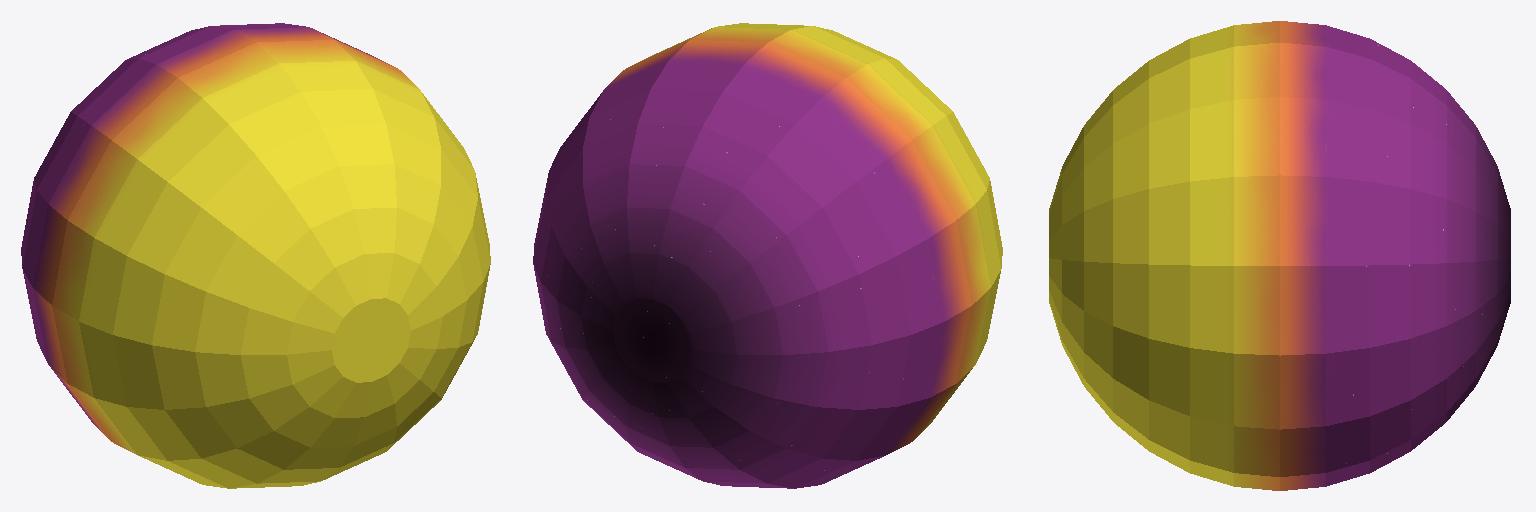
3 renders of one model, left to right at view 1: azimuth 30°, elevation 25°; view 2: azimuth 150°, elevation 25°; view 3: azimuth 270°, elevation 25°, orthographic.
Visible parts, largest first — view 1: Sphere_Sphere.001; view 2: Sphere_Sphere.001; view 3: Sphere_Sphere.001.
Part boxes in pixels (bbox=[...]): Sphere_Sphere.001: bbox=[21, 23, 490, 488]; Sphere_Sphere.001: bbox=[533, 23, 1002, 488]; Sphere_Sphere.001: bbox=[1049, 21, 1510, 490].
Size of the model in its own units: 2 by 2 by 1.96.
Materials: 1 (1 with a texture image).